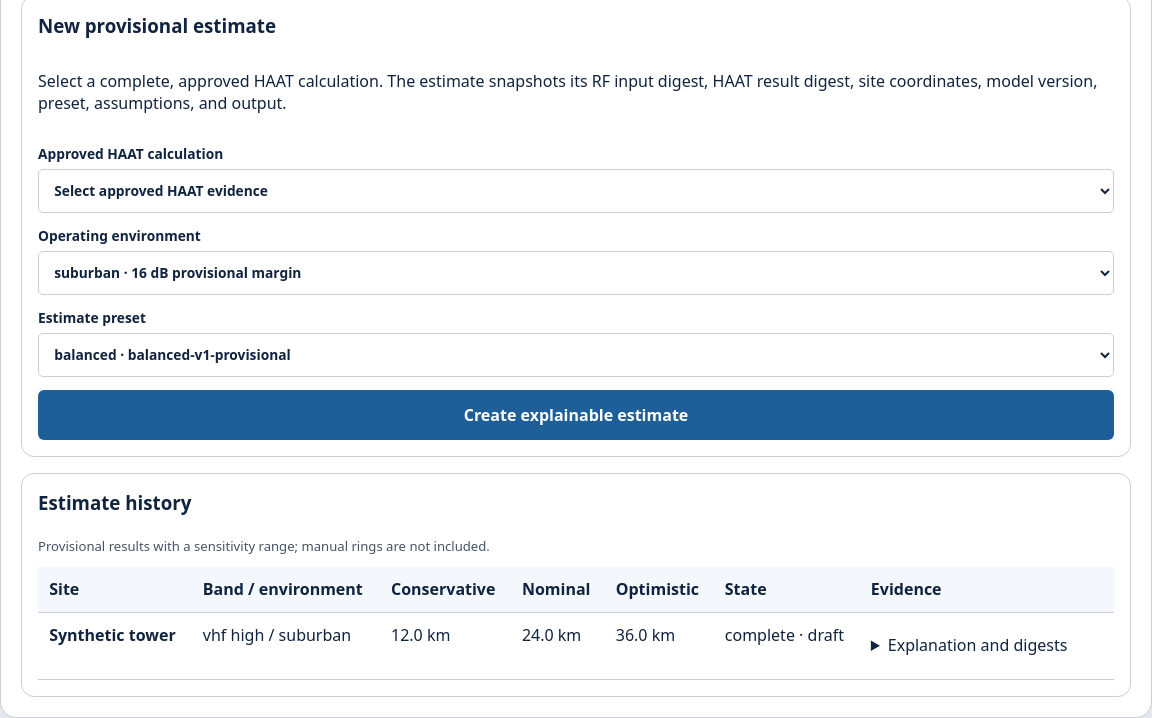
Test: shows assumptions, accessible distance table, and evidence
(page scrolled)
Expected: the text "12.0 km" is shown, top-left (380, 612), bottom-right (511, 680)
Expected: the text "24.0 km" is shown, top-left (511, 612), bottom-right (605, 680)
Step 1. Click the heading "Explanation and digests" → (978, 645), box top-left (888, 634), bottom-right (1067, 656)
(page scrolled)
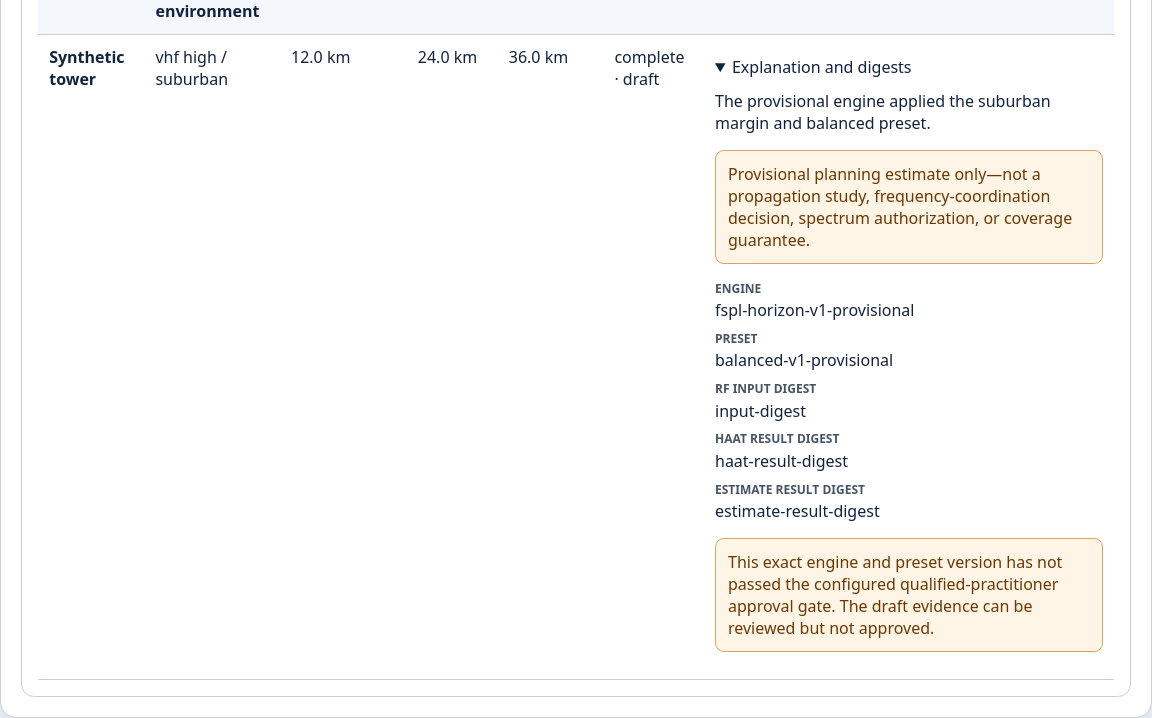
Expected: the text "input-digest" is shown, top-left (715, 400), bottom-right (806, 422)
Expected: the text "haat-result-digest" is shown, top-left (715, 450), bottom-right (848, 472)
Expected: the text "estimate-result-digest" is shown, top-left (715, 500), bottom-right (880, 522)
